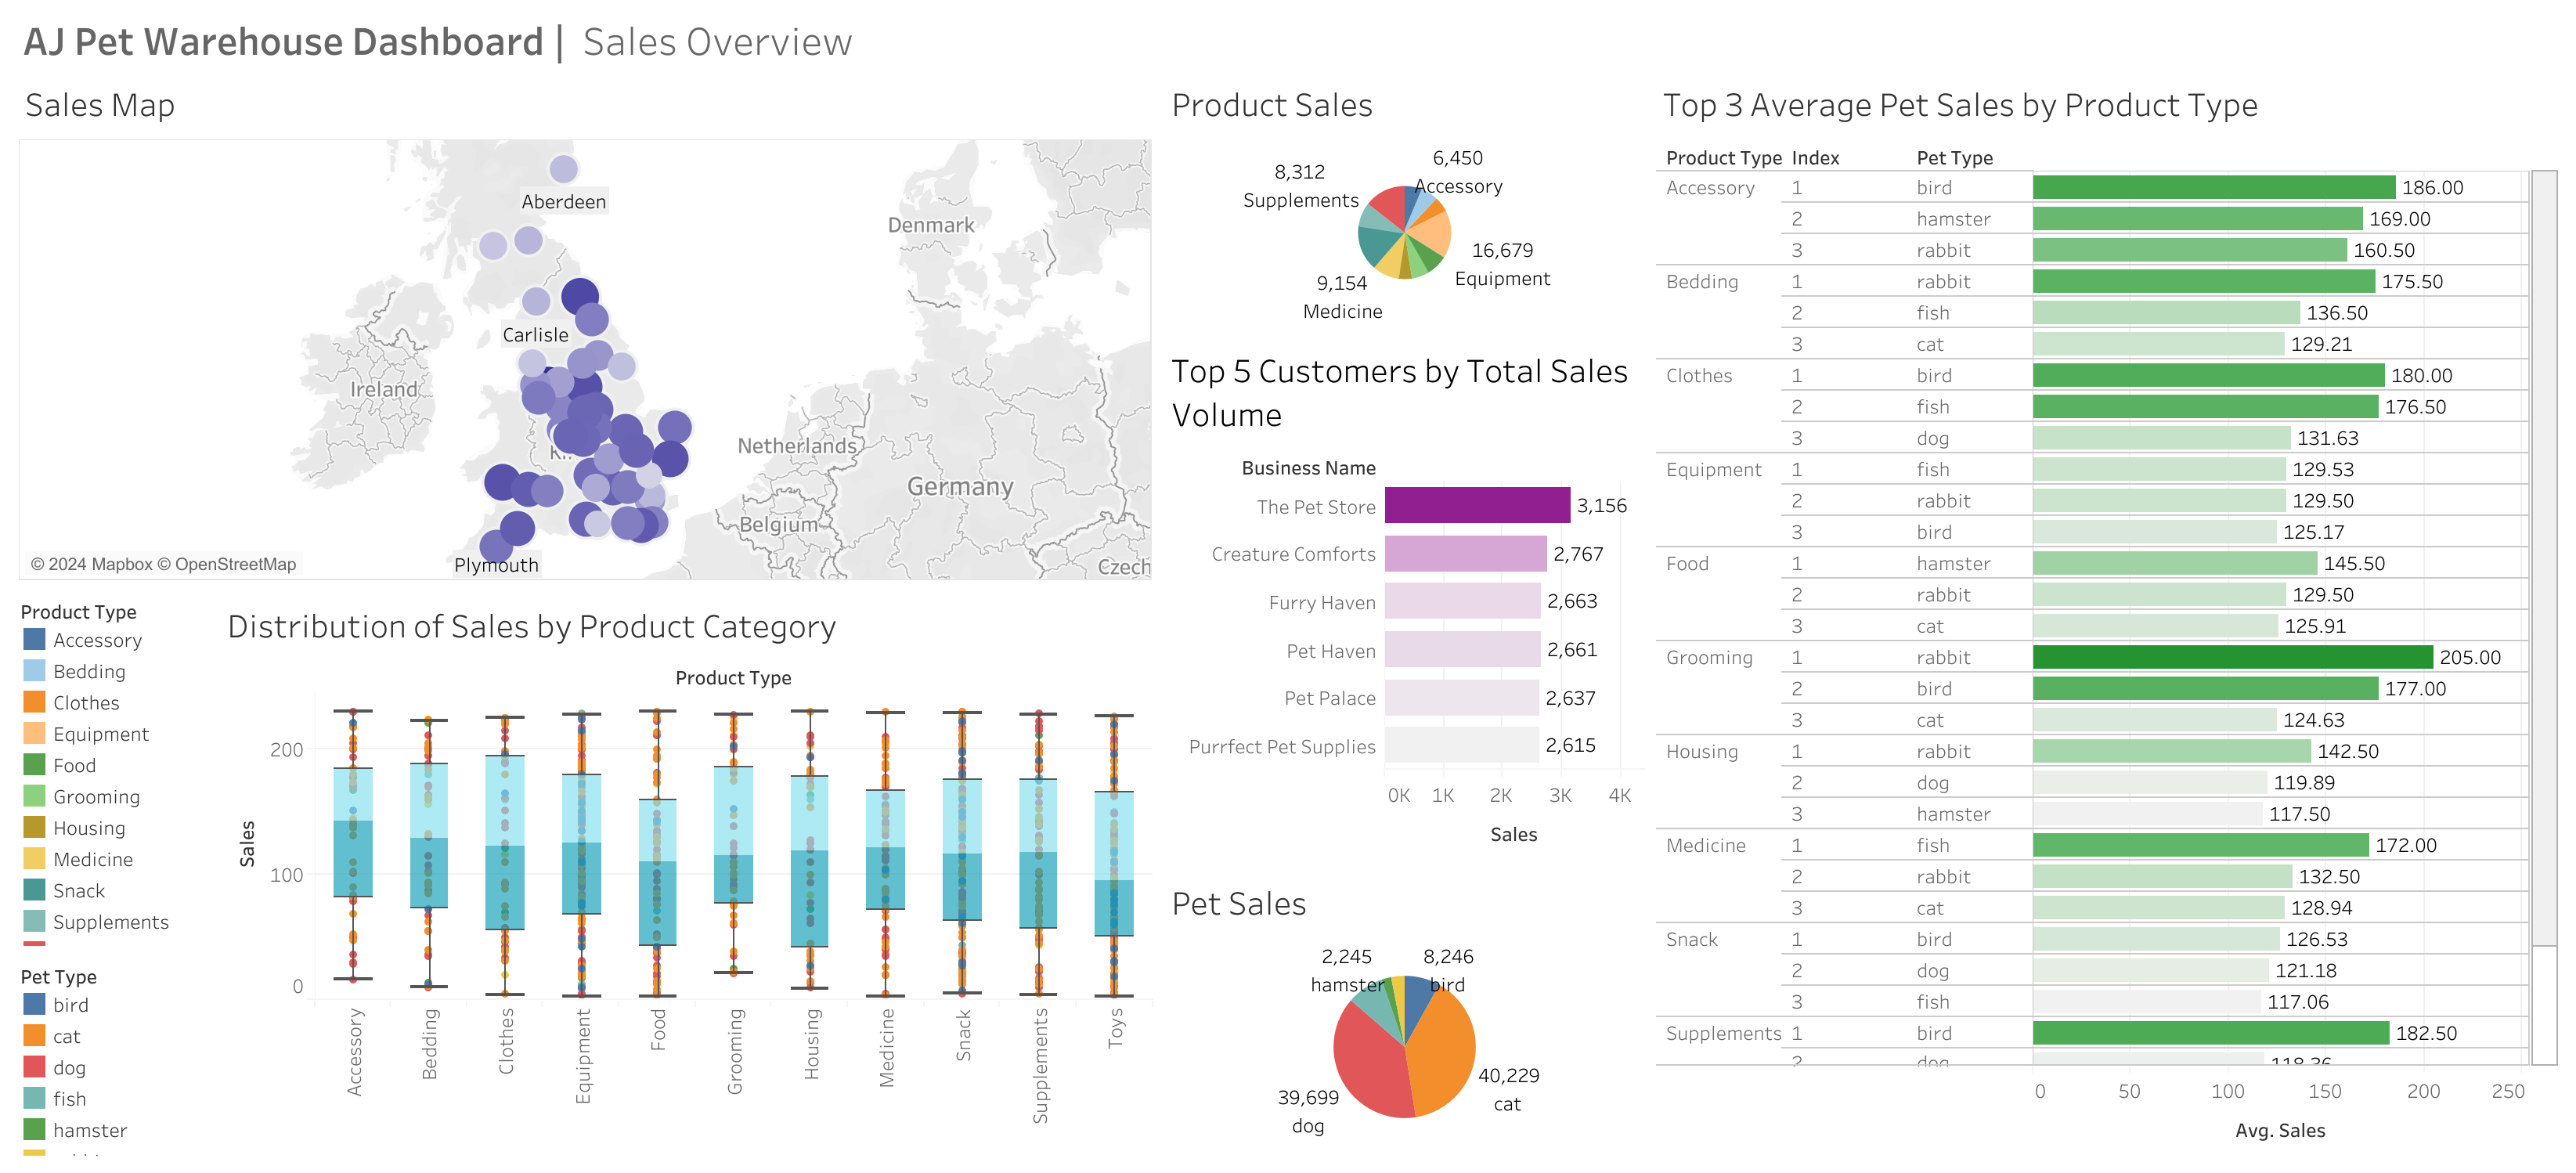

What the dashboard file says about the page in this screenshot:
{"tool":"tableau","page":{"name":"Dashboard 1","canvas":[1000,1000],"units":"permille","ordinal":0},"visuals":[{"type":"text","box":[5.5,10,989,44.8]},{"type":"worksheet","title":"Sales Map","mark":"Automatic","box":[5.5,54.8,444.3,444.6]},{"type":"worksheet","title":"Product Sales","mark":"Pie","box":[449.8,54.8,190.7,228.2]},{"type":"worksheet","title":"Top  3 Products","mark":"Automatic","rows":["product_type","pet_type"],"cols":["sales"],"box":[640.5,54.8,354.1,935.2]},{"type":"worksheet","title":"Top 5 Customers","mark":"Automatic","rows":["business_name"],"cols":["sales"],"box":[449.8,283,190.7,452.8]},{"type":"legend","title":"Product Sales","param":"[federated.0yautaf11rc3qb1atsirg05fpell].[none:product_type:nk]","box":[5.5,499.4,78.2,312.4]},{"type":"worksheet","title":"Sales Distribution","mark":"Circle","rows":["sales"],"cols":["product_type"],"box":[83.7,499.4,366.1,490.7]},{"type":"worksheet","title":"Pet Sales","mark":"Pie","box":[449.8,735.7,190.7,254.3]},{"type":"legend","title":"Sales Distribution","param":"[federated.0yautaf11rc3qb1atsirg05fpell].[none:pet_type:nk]","box":[5.5,811.8,78.2,178.3]}]}

Visuals, with their boxes on the dashboard's canvas, which has no fixed pixel size, in thousandths of its width and height (x1, y1, x2, y2). These are canvas units, not pixel positions in the 2576x1173 screenshot, which may show the page scaled, cropped or inside an application window:
text: locate(6, 10, 994, 55)
"Sales Map" worksheet: locate(6, 55, 450, 499)
"Product Sales" worksheet (Pie marks): locate(450, 55, 640, 283)
"Top  3 Products" worksheet: locate(640, 55, 995, 990)
"Top 5 Customers" worksheet: locate(450, 283, 640, 736)
"Product Sales" legend: locate(6, 499, 84, 812)
"Sales Distribution" worksheet (Circle marks): locate(84, 499, 450, 990)
"Pet Sales" worksheet (Pie marks): locate(450, 736, 640, 990)
"Sales Distribution" legend: locate(6, 812, 84, 990)
